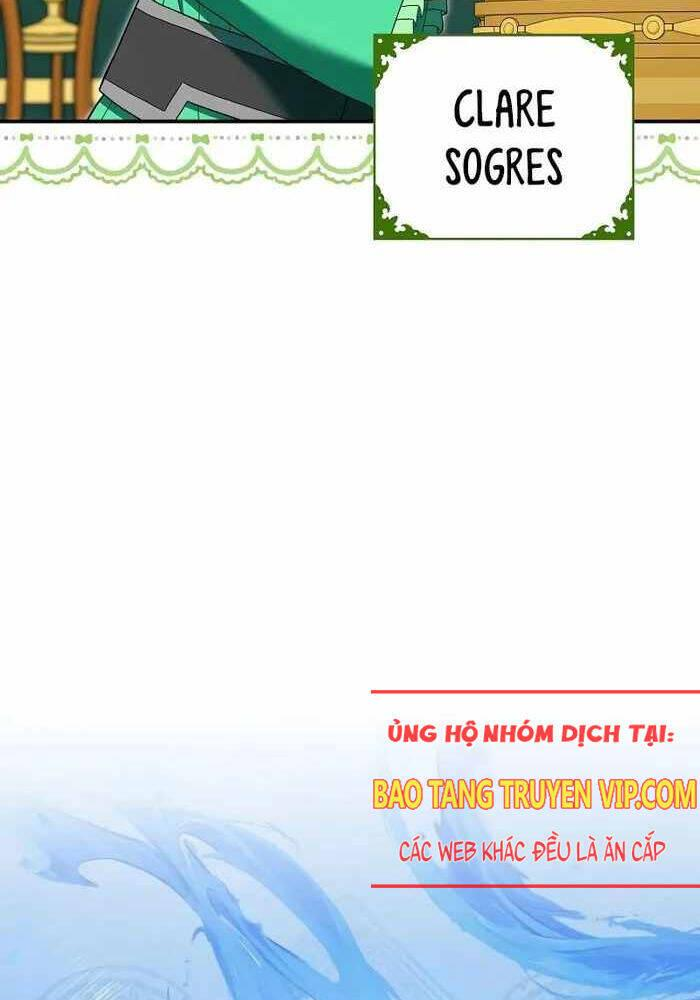quangcao: (368, 688, 700, 890)
